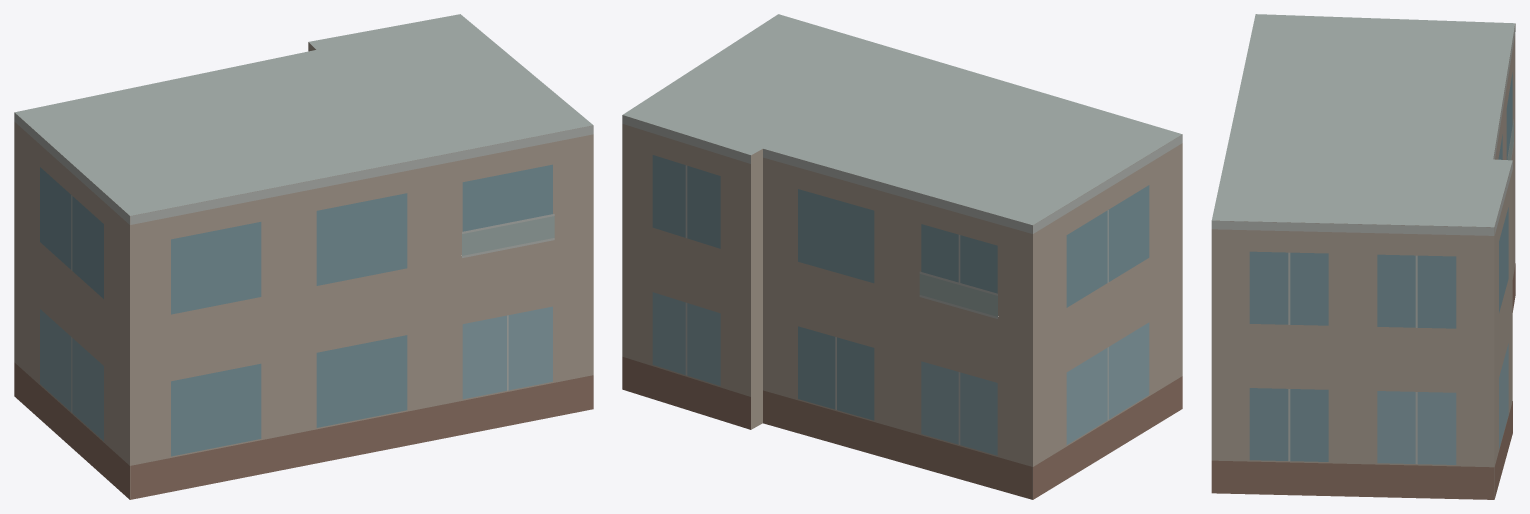
Rendered from survey-upis-32726738.glb.
The picture shows the model from 3 angles, left to right: view 1: azimuth 30°, elevation 25°; view 2: azimuth 150°, elevation 25°; view 3: azimuth 270°, elevation 25°; orthographic projection. The views are drawn at different scales.
Visible parts, largest first — view 1: survey-upis-32726738.tmp; view 2: survey-upis-32726738.tmp; view 3: survey-upis-32726738.tmp.
Boxes of the visible parts, <box> form: survey-upis-32726738.tmp: <box>14,14,593,499</box>; survey-upis-32726738.tmp: <box>622,14,1182,499</box>; survey-upis-32726738.tmp: <box>1211,14,1515,499</box>.
Size of the model in its own units: 12.75 by 7.6 by 7.68.
